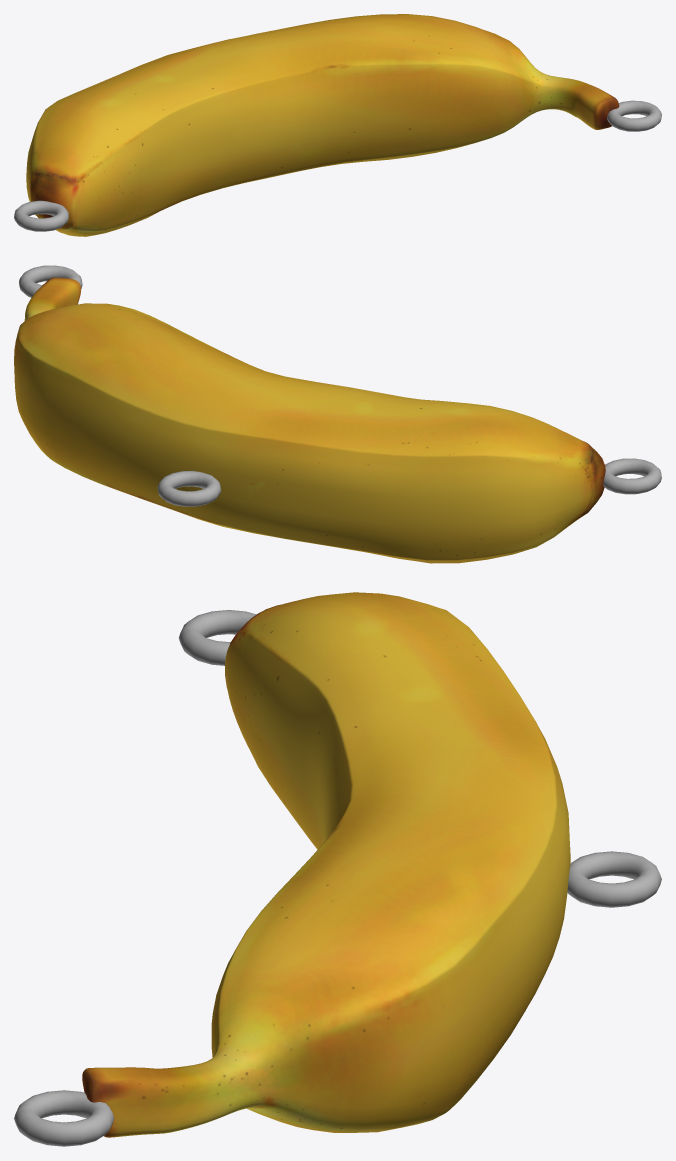
The model's file is banana.glb.
The picture shows the model from 3 angles, top to bottom: view 1: azimuth 30°, elevation 25°; view 2: azimuth 150°, elevation 25°; view 3: azimuth 270°, elevation 25°; orthographic projection. The views are drawn at different scales.
Visible parts, largest first — view 1: 21942_Banana_v1; view 2: 21942_Banana_v1; view 3: 21942_Banana_v1.
Boxes of the visible parts, left/top/right/bottom form: 21942_Banana_v1: left=14, top=14, right=661, bottom=236; 21942_Banana_v1: left=14, top=265, right=661, bottom=563; 21942_Banana_v1: left=14, top=592, right=661, bottom=1146.
Bounding box in the file's own units: 9.35 × 1.89 × 4.9.
1 material, 1 textured.
